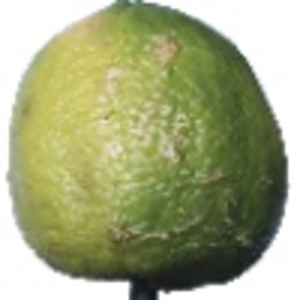limão: (7, 1, 288, 300)
